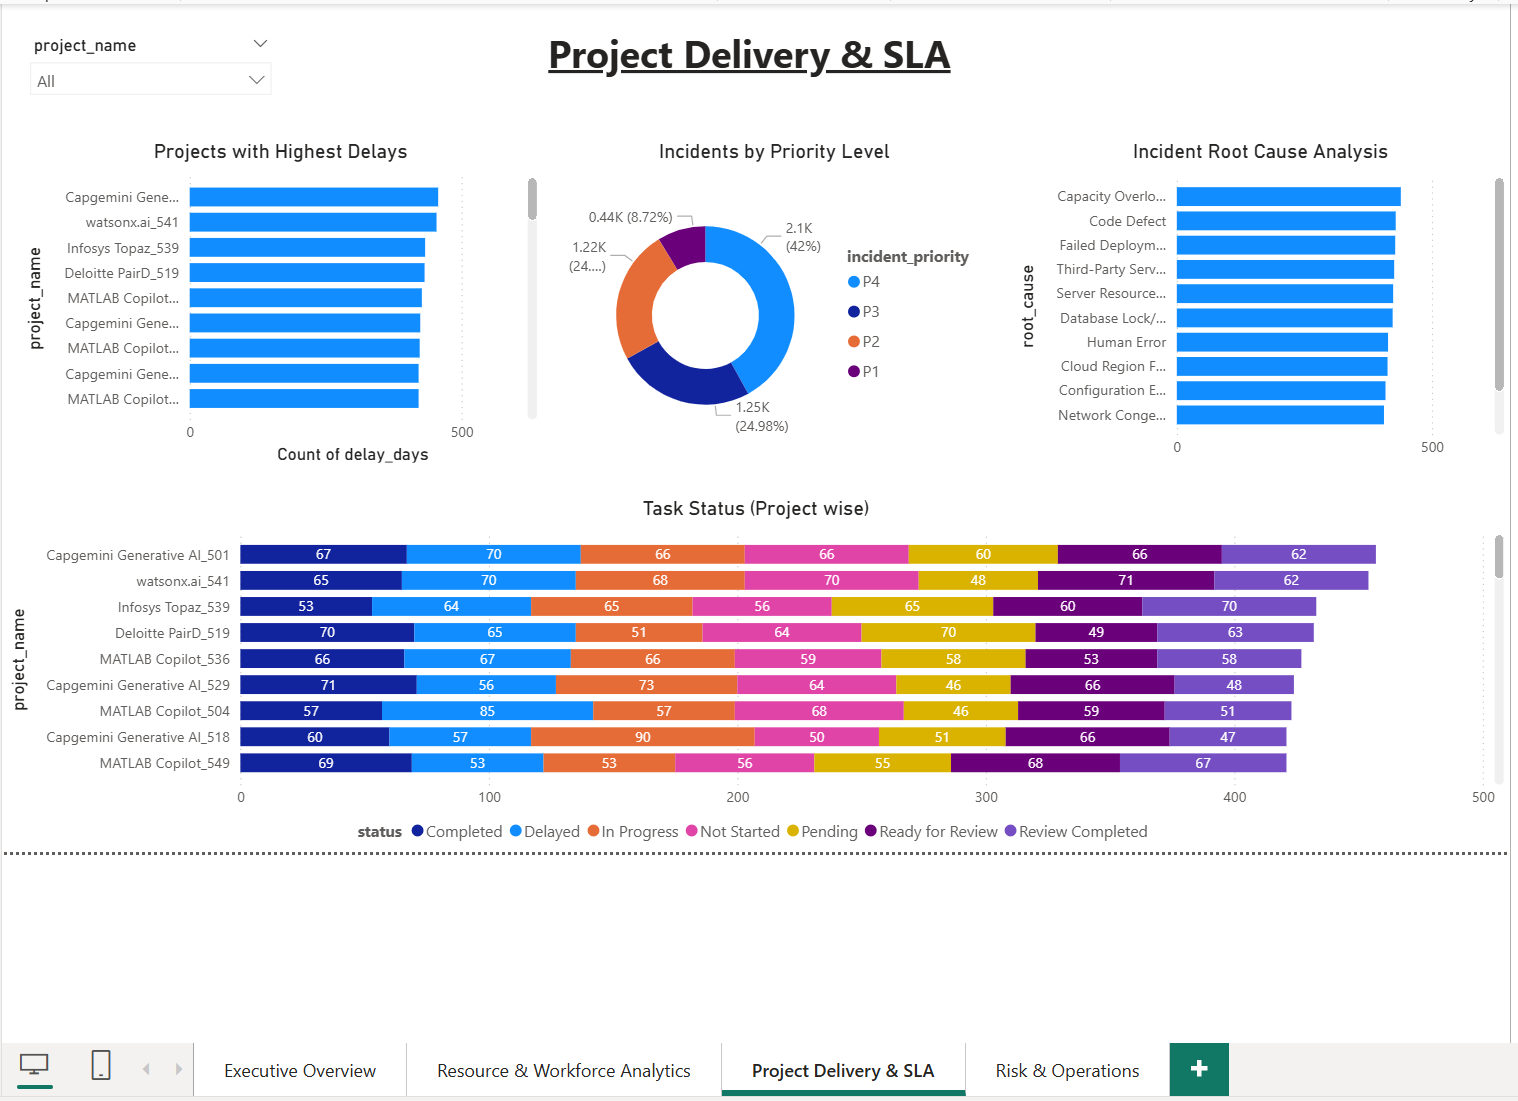

Layout of this report page (visuals, bound fields, positions):
{"tool":"powerbi","page":{"name":"Project Delivery & SLA","canvas":[1280,720],"ordinal":2},"visuals":[{"type":"donutChart","title":"Incidents by Priority Level","fields":{"Category":["enterprise_analytics incidents.incident_priority"],"Y":["Count(enterprise_analytics incidents.incident_id)"]},"box":[471,114.3,369.1,279.6],"z":0},{"type":"barChart","title":"Incident Root Cause Analysis","fields":{"Category":["enterprise_analytics incidents.root_cause"],"Y":["CountNonNull(enterprise_analytics incidents.incident_type)"]},"box":[856.7,114.3,422.8,279.6],"z":1000},{"type":"slicer","fields":{"Values":["enterprise_analytics project.project_name"]},"box":[13.8,22,224.5,92.3],"z":2000},{"type":"barChart","title":"Task Status (Project wise)","fields":{"Series":["enterprise_analytics task.status"],"Category":["enterprise_analytics project.project_name"],"Y":["Count(enterprise_analytics task.task_id)"]},"box":[0,417.3,1279.5,303],"z":3000},{"type":"barChart","title":"Projects with Highest Delays","fields":{"Category":["enterprise_analytics project.project_name"],"Y":["CountNonNull(enterprise_analytics task.delay_days)"]},"box":[13.8,114.3,444.9,279.6],"z":4000},{"type":"textbox","box":[458.4,14.1,371.2,53.4],"z":4001}]}

Visuals, with their boxes on the page's 1280x720 design canvas (x1, y1, x2, y2). These are canvas units, not pixel positions in the 1518x1101 screenshot, which may show the page scaled, cropped or inside an application window:
"Incidents by Priority Level" donutChart: 471, 114, 840, 394
"Incident Root Cause Analysis" barChart: 857, 114, 1280, 394
slicer - enterprise_analytics project.project_name: 14, 22, 238, 114
"Task Status (Project wise)" barChart: 0, 417, 1280, 720
"Projects with Highest Delays" barChart: 14, 114, 459, 394
textbox: 458, 14, 830, 68
